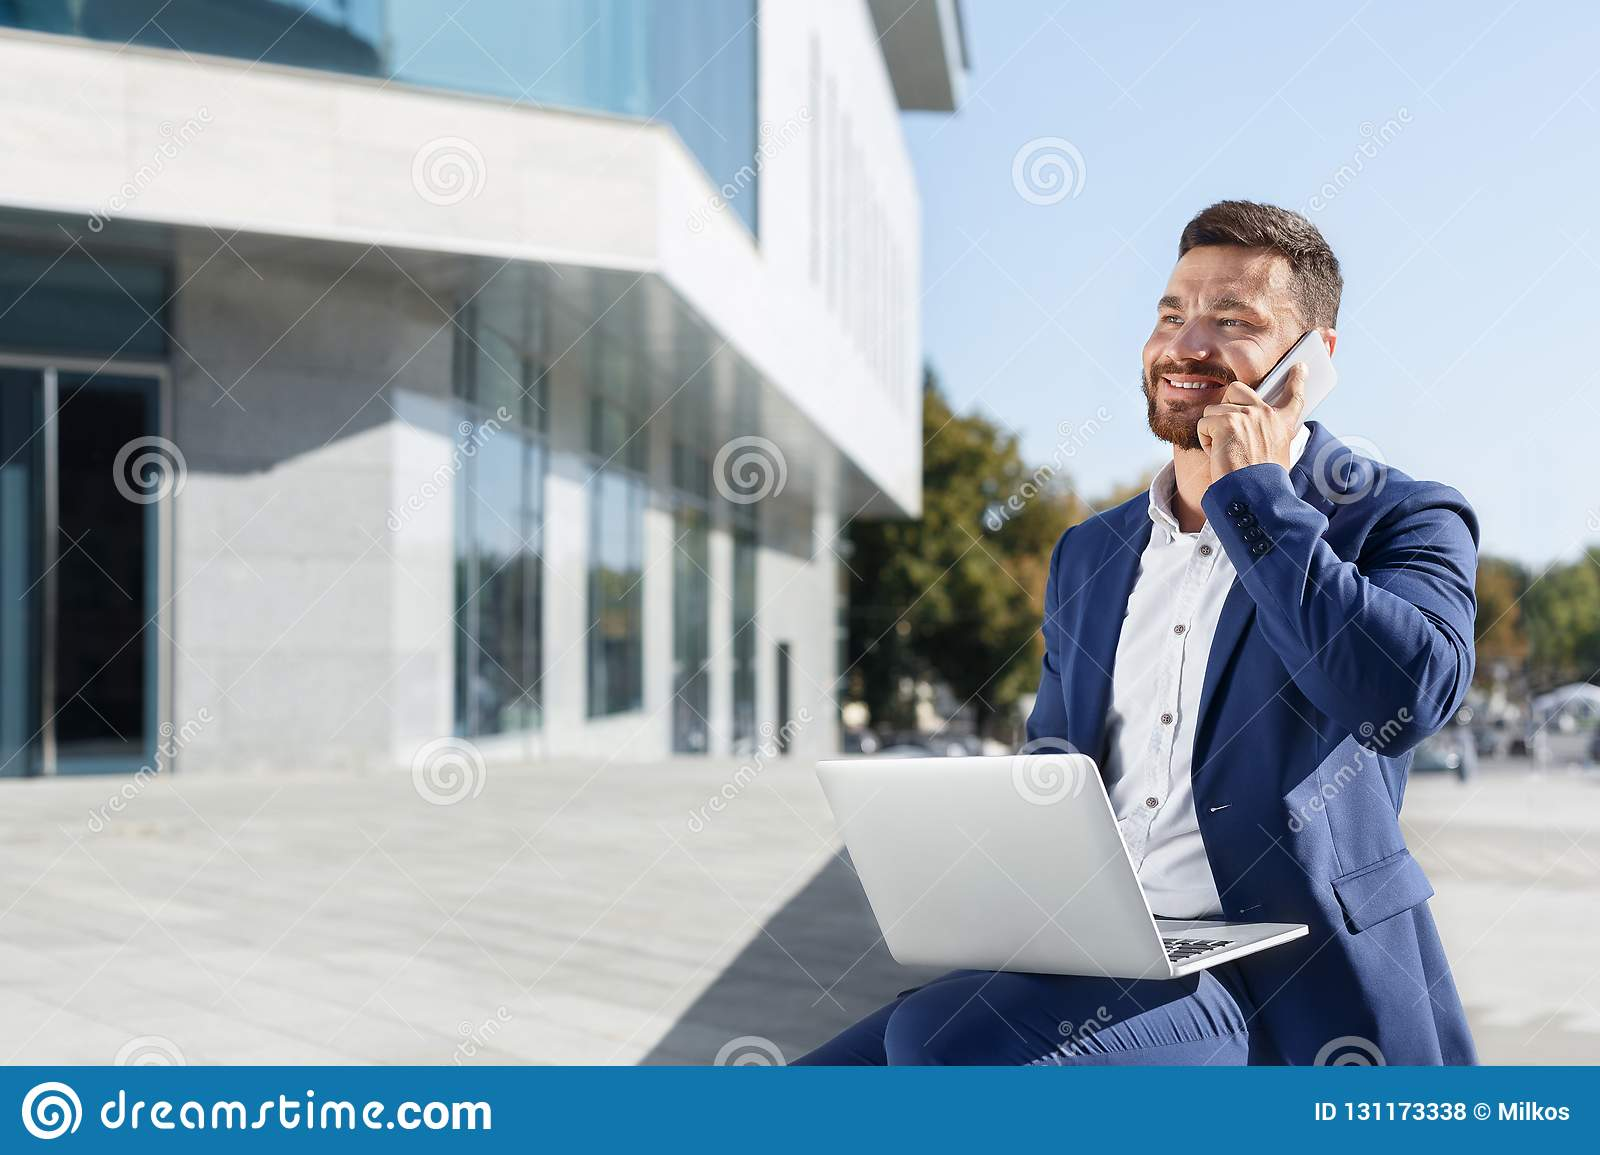phone: (1237, 327, 1337, 435)
talk: (1135, 293, 1342, 483)
